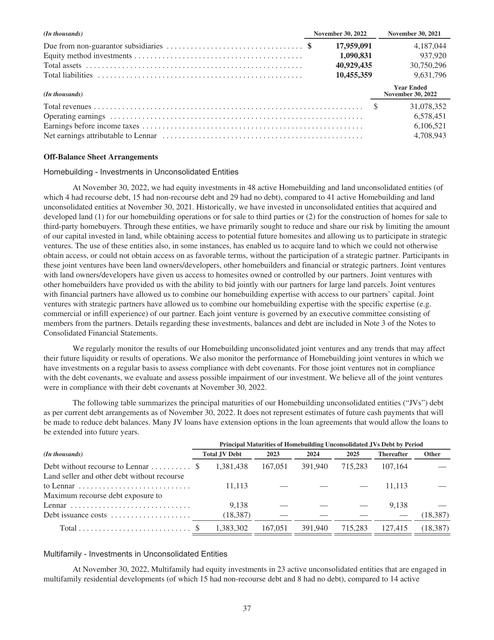box: (42, 28, 448, 140), (43, 441, 451, 536)
